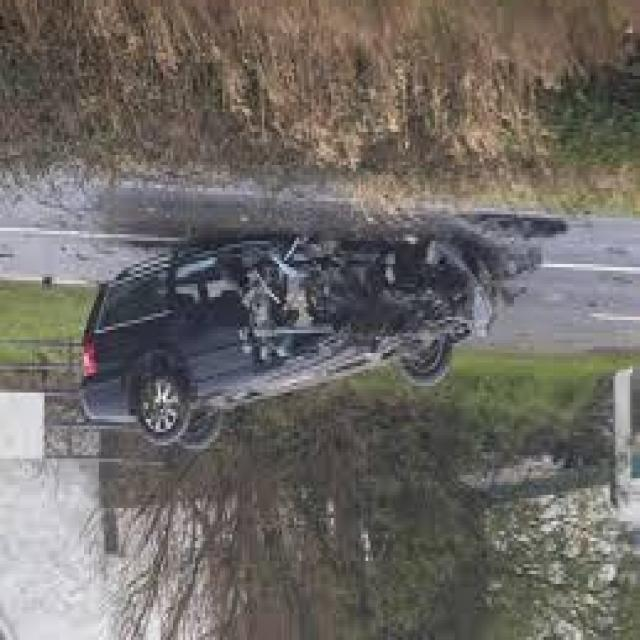severe: (68, 226, 503, 467)
